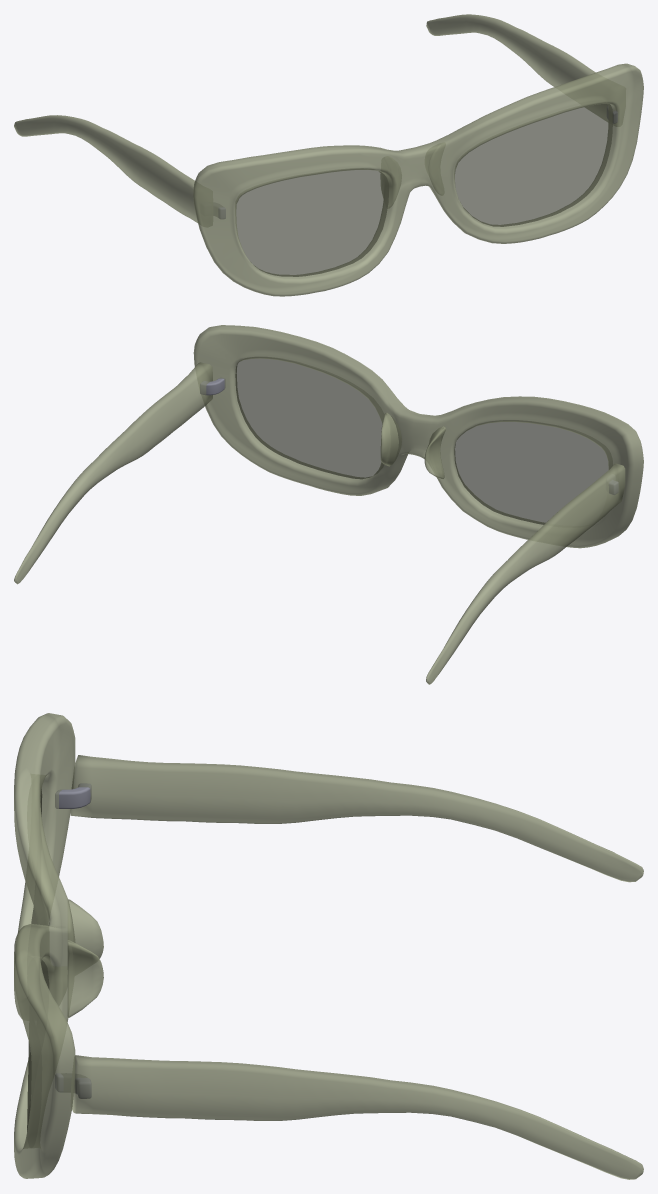
File: model1-center.glb
3 views of the same model, one above another, from view 1: azimuth 30°, elevation 25°; view 2: azimuth 150°, elevation 25°; view 3: azimuth 270°, elevation 25° (orthographic). The views are drawn at different scales.
Visible parts, largest first — view 1: model 1; view 2: model 1; view 3: model 1.
Boxes of the visible parts, x1=… form: model 1: x1=14, y1=14, x2=643, y2=296; model 1: x1=14, y1=325, x2=643, y2=684; model 1: x1=14, y1=713, x2=643, y2=1179.
Bounding box in the file's own units: 2.31 × 0.7076 × 1.9.
